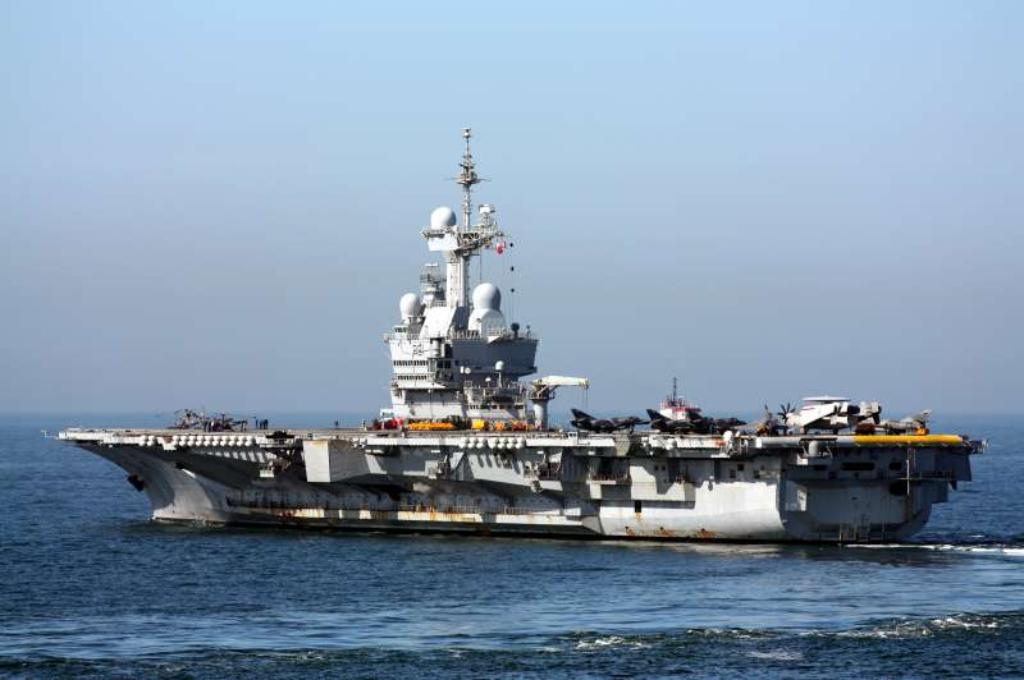Warship: (48, 116, 986, 558)
